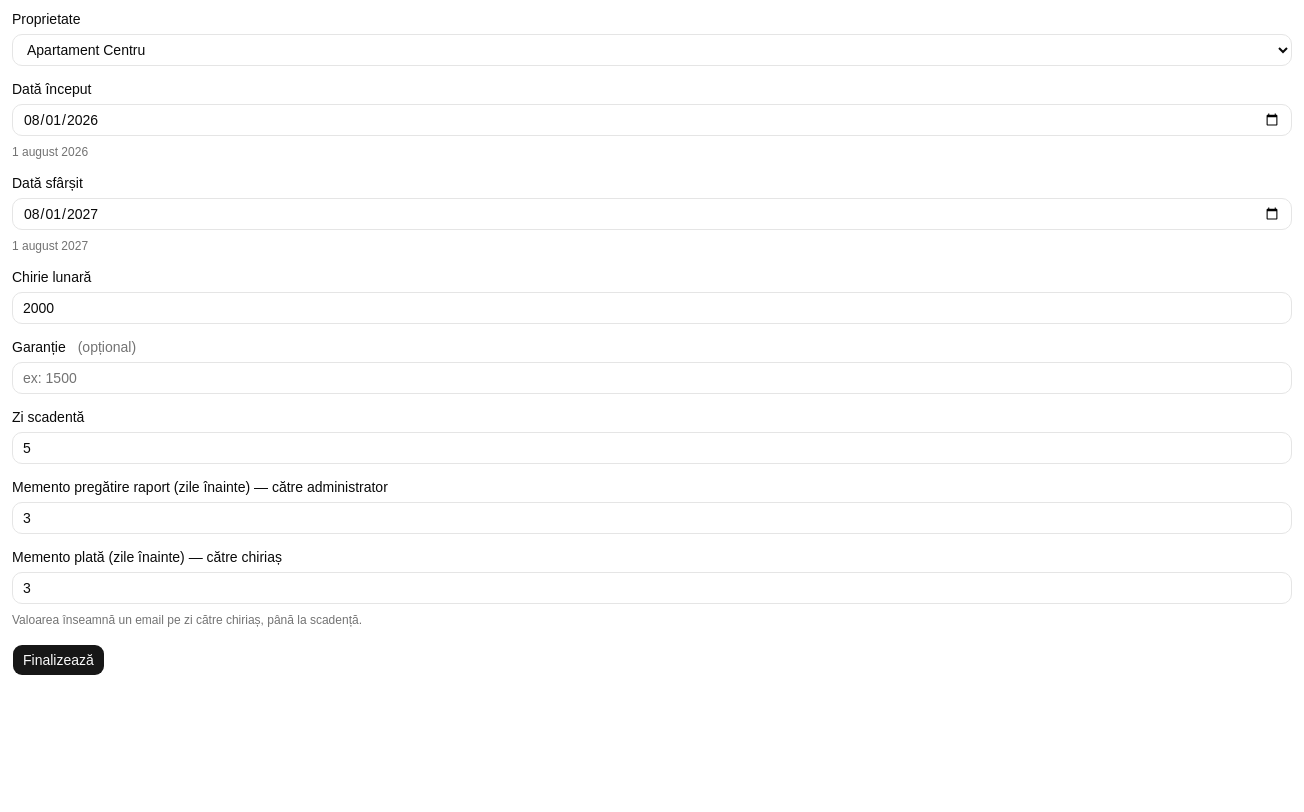
Test: StepContract — finalize errors › an UNEXPECTED error shows the raw error.message alongside the generic text (debugging visibility)
Click the button "Finalizează".
click(58, 660)  # box x1=12 y1=644 x2=105 y2=676
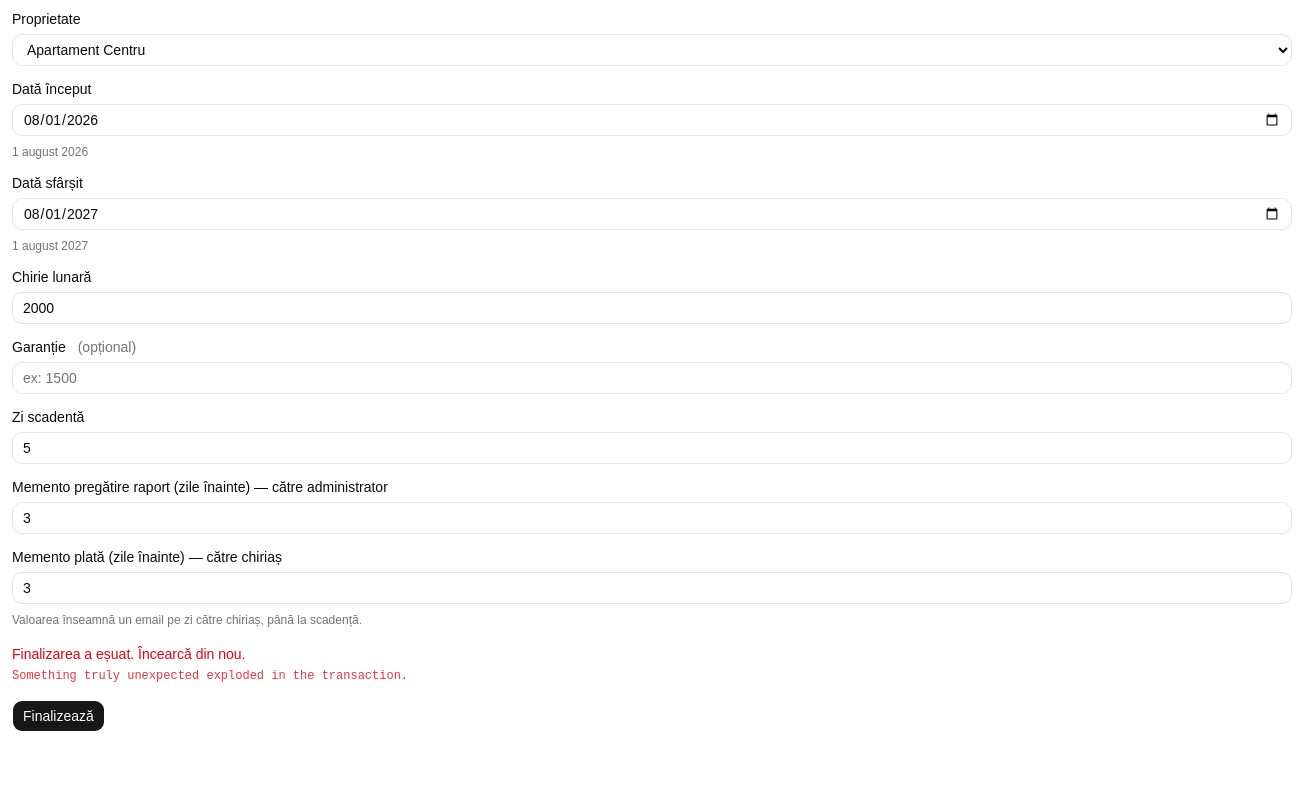
Now the message shows "Something truly unexpected exploded in the transaction.", box x1=12 y1=669 x2=408 y2=683
Now the message shows "Finalizarea a eșuat", box x1=12 y1=646 x2=246 y2=662
